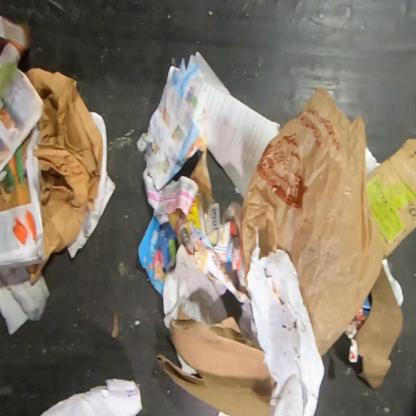cardboard: (155, 302, 277, 415), (366, 138, 416, 259)
soft_plastic: (238, 86, 383, 358)
